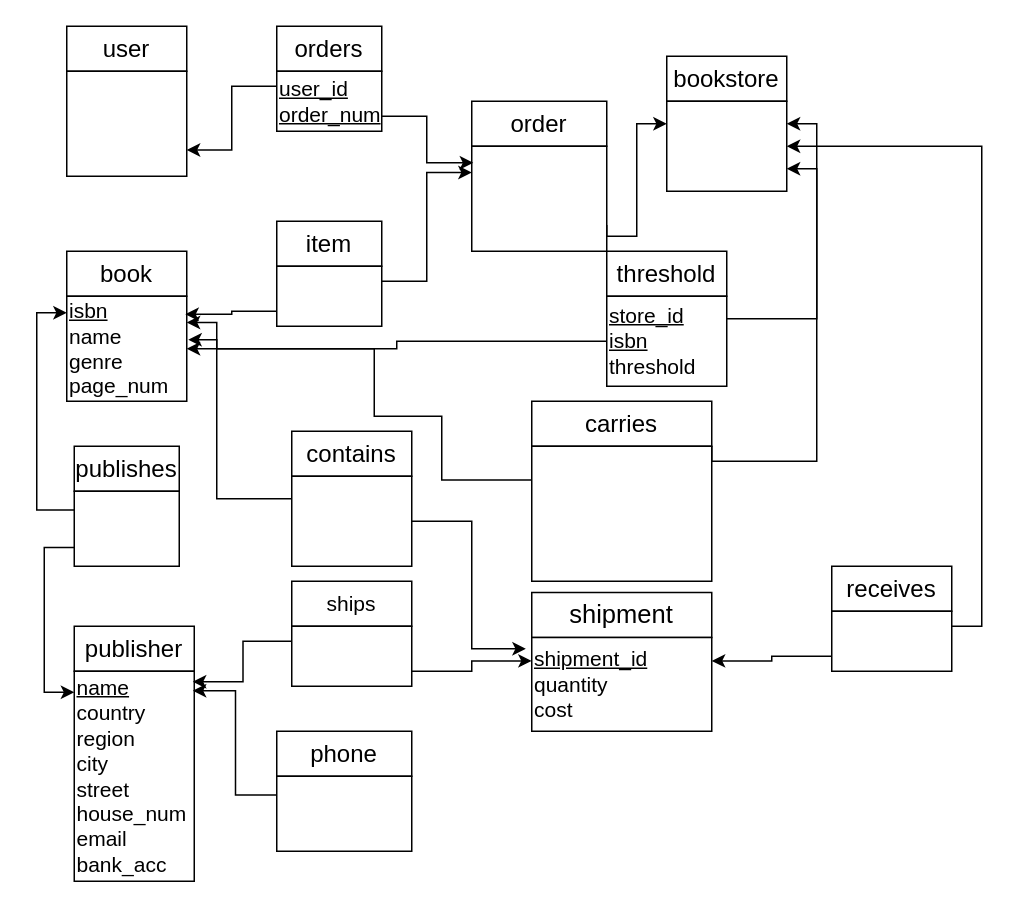
Image size: 1020x908. Some labels were removed from this diagram. The shapes that lost their labels are listed below. From the top down, each one's centre as x and y in pixels, then its label:
At [126,123]: "username password user_id email".
At [726,145]: "store_id store_name".
At [538,198]: "order_num tracking_num date store_id".
At [328,295]: "order_num isbn".
At [126,528]: "isbn publisher".
At [351,520]: "isbn shipment_id quantity".
At [621,513]: "store_id isbn price quantity pub_cut".
At [351,655]: "pub_name shipment_id".
At [891,640]: "store_id shipment_id".
At [343,813]: "name phone_num".
